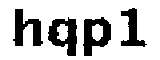1: (117, 7, 149, 51)
h: (7, 5, 43, 50)
p: (80, 14, 112, 60)
q: (47, 15, 78, 60)
